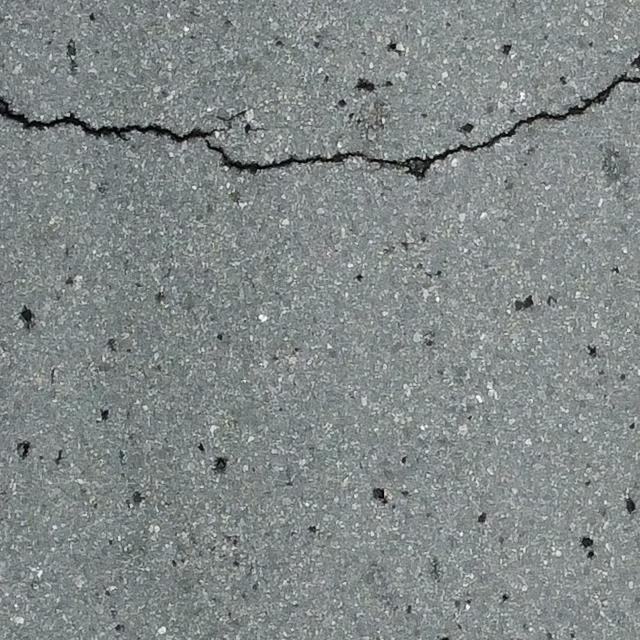TransverseCrack: (1, 54, 639, 183)
